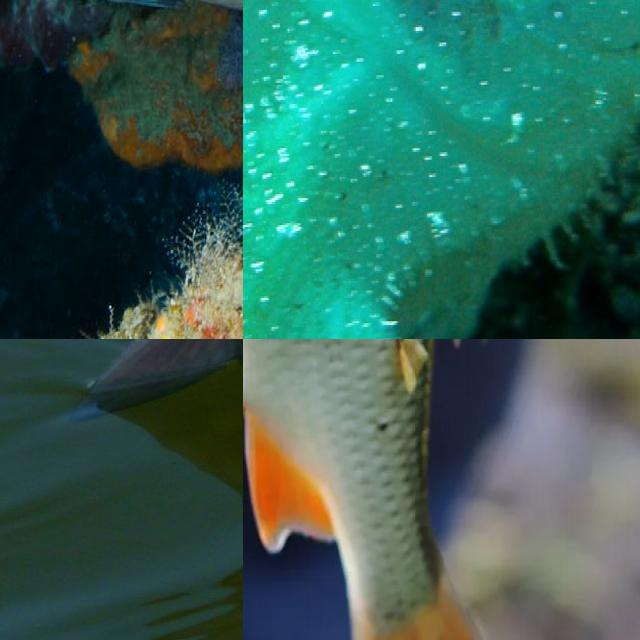fish: (243, 0, 640, 339), (243, 339, 640, 640), (0, 0, 243, 339), (0, 339, 243, 409)
